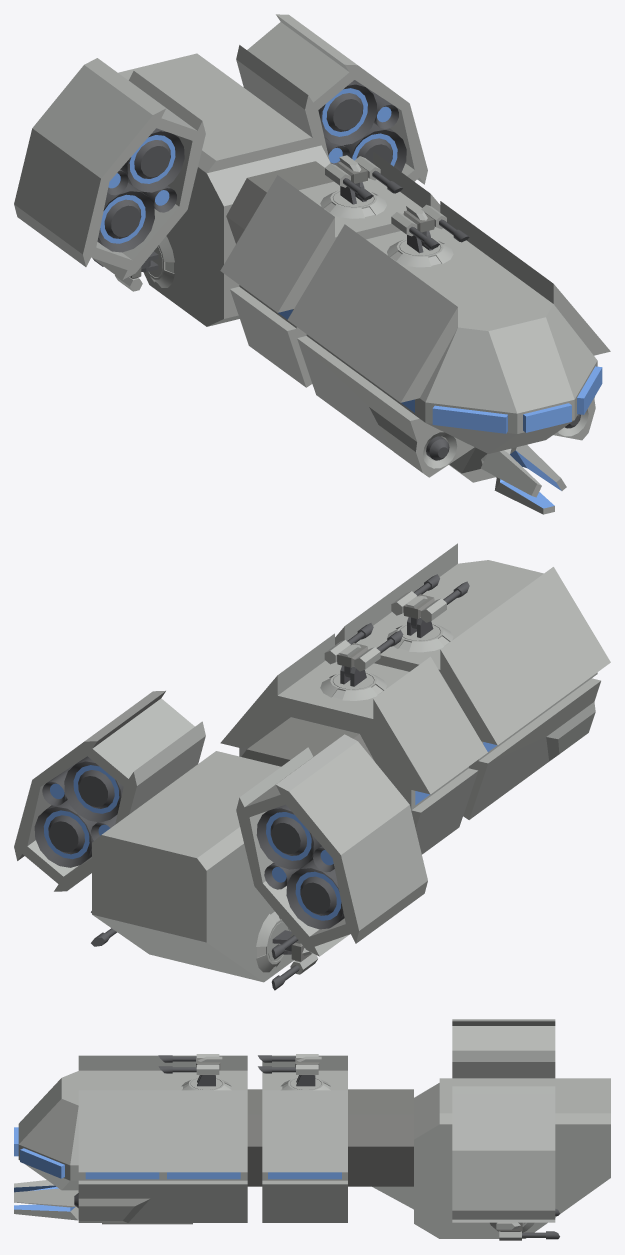
The model's file is starship.glb.
The picture shows the model from 3 angles, top to bottom: view 1: azimuth 30°, elevation 25°; view 2: azimuth 150°, elevation 25°; view 3: azimuth 270°, elevation 25°; orthographic projection. The views are drawn at different scales.
Visible parts, largest first — view 1: Starship.011, Starship, Starship.010, Starship.012, Starship.005, 1stUpperTurret.001, Starship.001, 1stUpperTurret.002; view 2: Starship.011, Starship, Starship.010, Starship.012, Starship.005, 1stUpperTurret.001, Starship.001, 1stUpperTurret.002, Starship.008, Starship.009; view 3: Starship.011, Starship.012, Starship.010, Starship.001, 1stUpperTurret.002, 1stUpperTurret.001, Starship.005, Starship.007.
Boxes of the visible parts, box(x1,y1,x2,y2) form: Starship.011: box(14, 14, 610, 514); Starship: box(97, 80, 580, 460); Starship.010: box(100, 88, 602, 508); Starship.012: box(226, 161, 333, 243); Starship.005: box(325, 155, 380, 207); 1stUpperTurret.001: box(391, 204, 446, 255); Starship.001: box(340, 170, 403, 204); 1stUpperTurret.002: box(407, 219, 469, 253); Starship.011: box(14, 543, 610, 982); Starship: box(34, 756, 344, 929); Starship.010: box(43, 742, 496, 920); Starship.012: box(241, 717, 374, 766); Starship.005: box(324, 640, 380, 689); 1stUpperTurret.001: box(391, 591, 446, 640); Starship.001: box(340, 623, 403, 686); 1stUpperTurret.002: box(407, 574, 469, 637); Starship.008: box(271, 930, 299, 990); Starship.009: box(268, 922, 318, 974); Starship.011: box(14, 1019, 610, 1238); Starship.012: box(247, 1089, 413, 1186); Starship.010: box(14, 1127, 341, 1211); Starship.001: box(258, 1055, 315, 1086); 1stUpperTurret.002: box(158, 1055, 215, 1086); 1stUpperTurret.001: box(191, 1054, 222, 1089); Starship.005: box(290, 1054, 321, 1089); Starship.007: box(496, 1222, 524, 1240).
Size of the model in its own units: 30.14 by 18.37 by 60.48.
